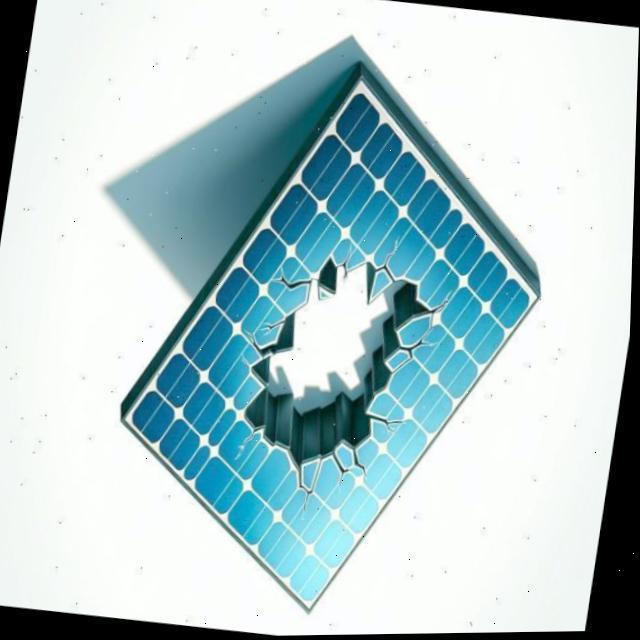Anomaly Solar Panel: (98, 79, 590, 619)
Structural Damage: (214, 230, 471, 491), (386, 292, 472, 386), (295, 459, 326, 520), (376, 239, 416, 286), (274, 267, 314, 299), (366, 409, 409, 438), (336, 452, 356, 497), (349, 451, 376, 481), (236, 431, 260, 461), (337, 246, 354, 284), (261, 318, 289, 338)
